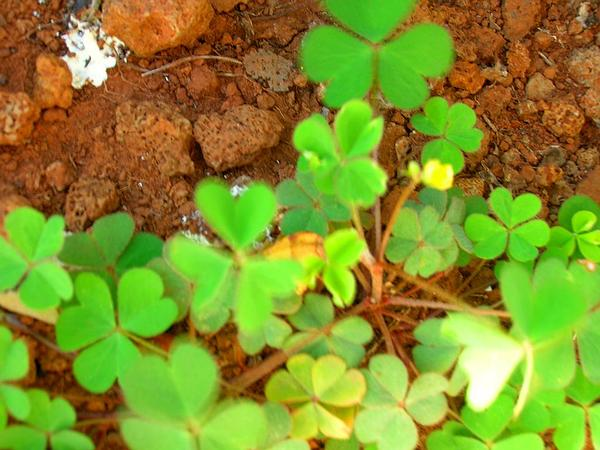oxalis: (3, 182, 600, 440), (236, 27, 556, 202)
